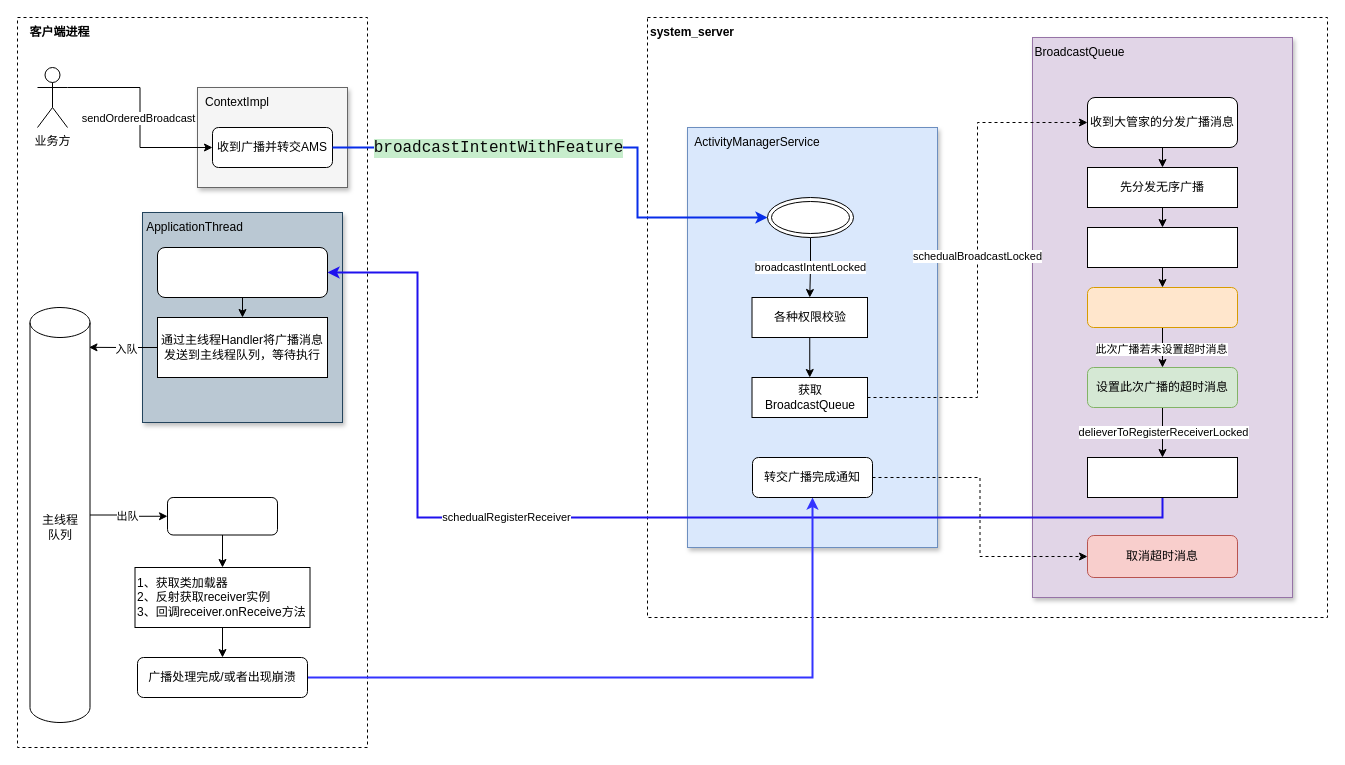
This 1345x765 diagram has some shape labels left out. The shapes that lost their labels are listed below. From the top down, each one's centre as x and y in pixels, then its label:
At pixel 810 217: "接收广播请求".
At pixel 1162 247: "处理有序广播".
At pixel 242 272: "收到系统进程的广播分发通知".
At pixel 1162 307: "取消上一次广播的超时消息".
At pixel 1162 477: "分发广播".
At pixel 222 515: "处理广播消息".
